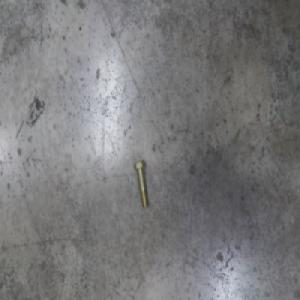Bolt: (133, 158, 148, 208)
